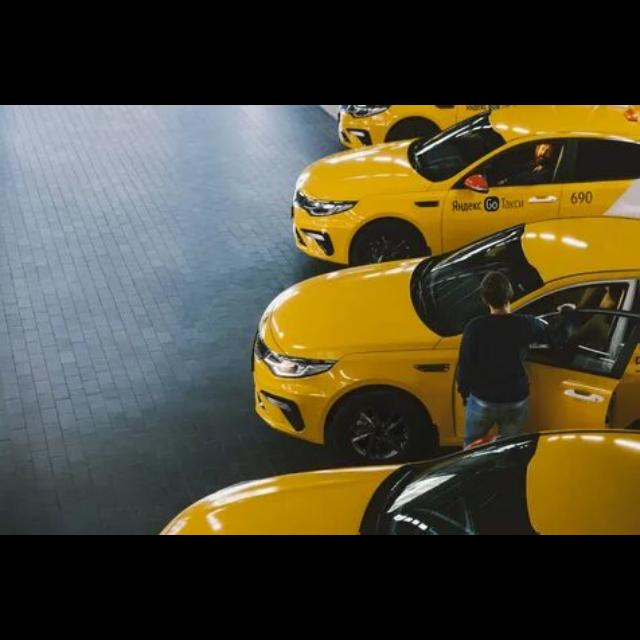taxi: (251, 217, 639, 464), (292, 107, 640, 268), (157, 428, 639, 535), (336, 107, 501, 152)
